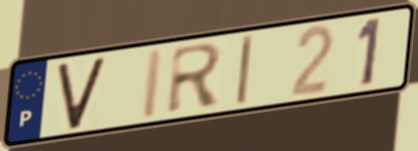1: (354, 15, 383, 90)
2: (287, 23, 338, 100)
I: (138, 45, 168, 122), (233, 31, 256, 109)
R: (164, 40, 226, 117)
V: (55, 53, 109, 132)
